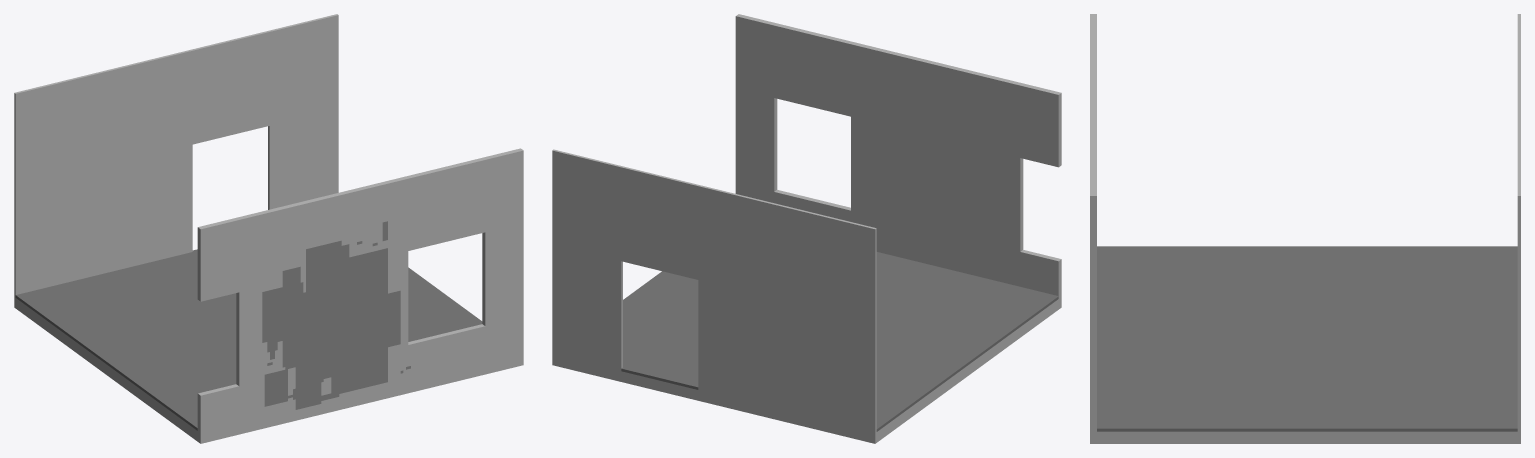
The model's file is 4x2 second-3.obj.
3 renders of one model, left to right at view 1: azimuth 30°, elevation 25°; view 2: azimuth 150°, elevation 25°; view 3: azimuth 270°, elevation 25°, orthographic. The views are drawn at different scales.
Visible parts, largest first — view 1: 4x2 second-3; view 2: 4x2 second-3; view 3: 4x2 second-3.
Part boxes in pixels (x1,y1,x2,y2): 4x2 second-3: (14,14,523,443); 4x2 second-3: (552,14,1061,443); 4x2 second-3: (1090,14,1520,443).
Bounding box in the file's own units: 126 × 80 × 126.
1 material, 1 textured.
